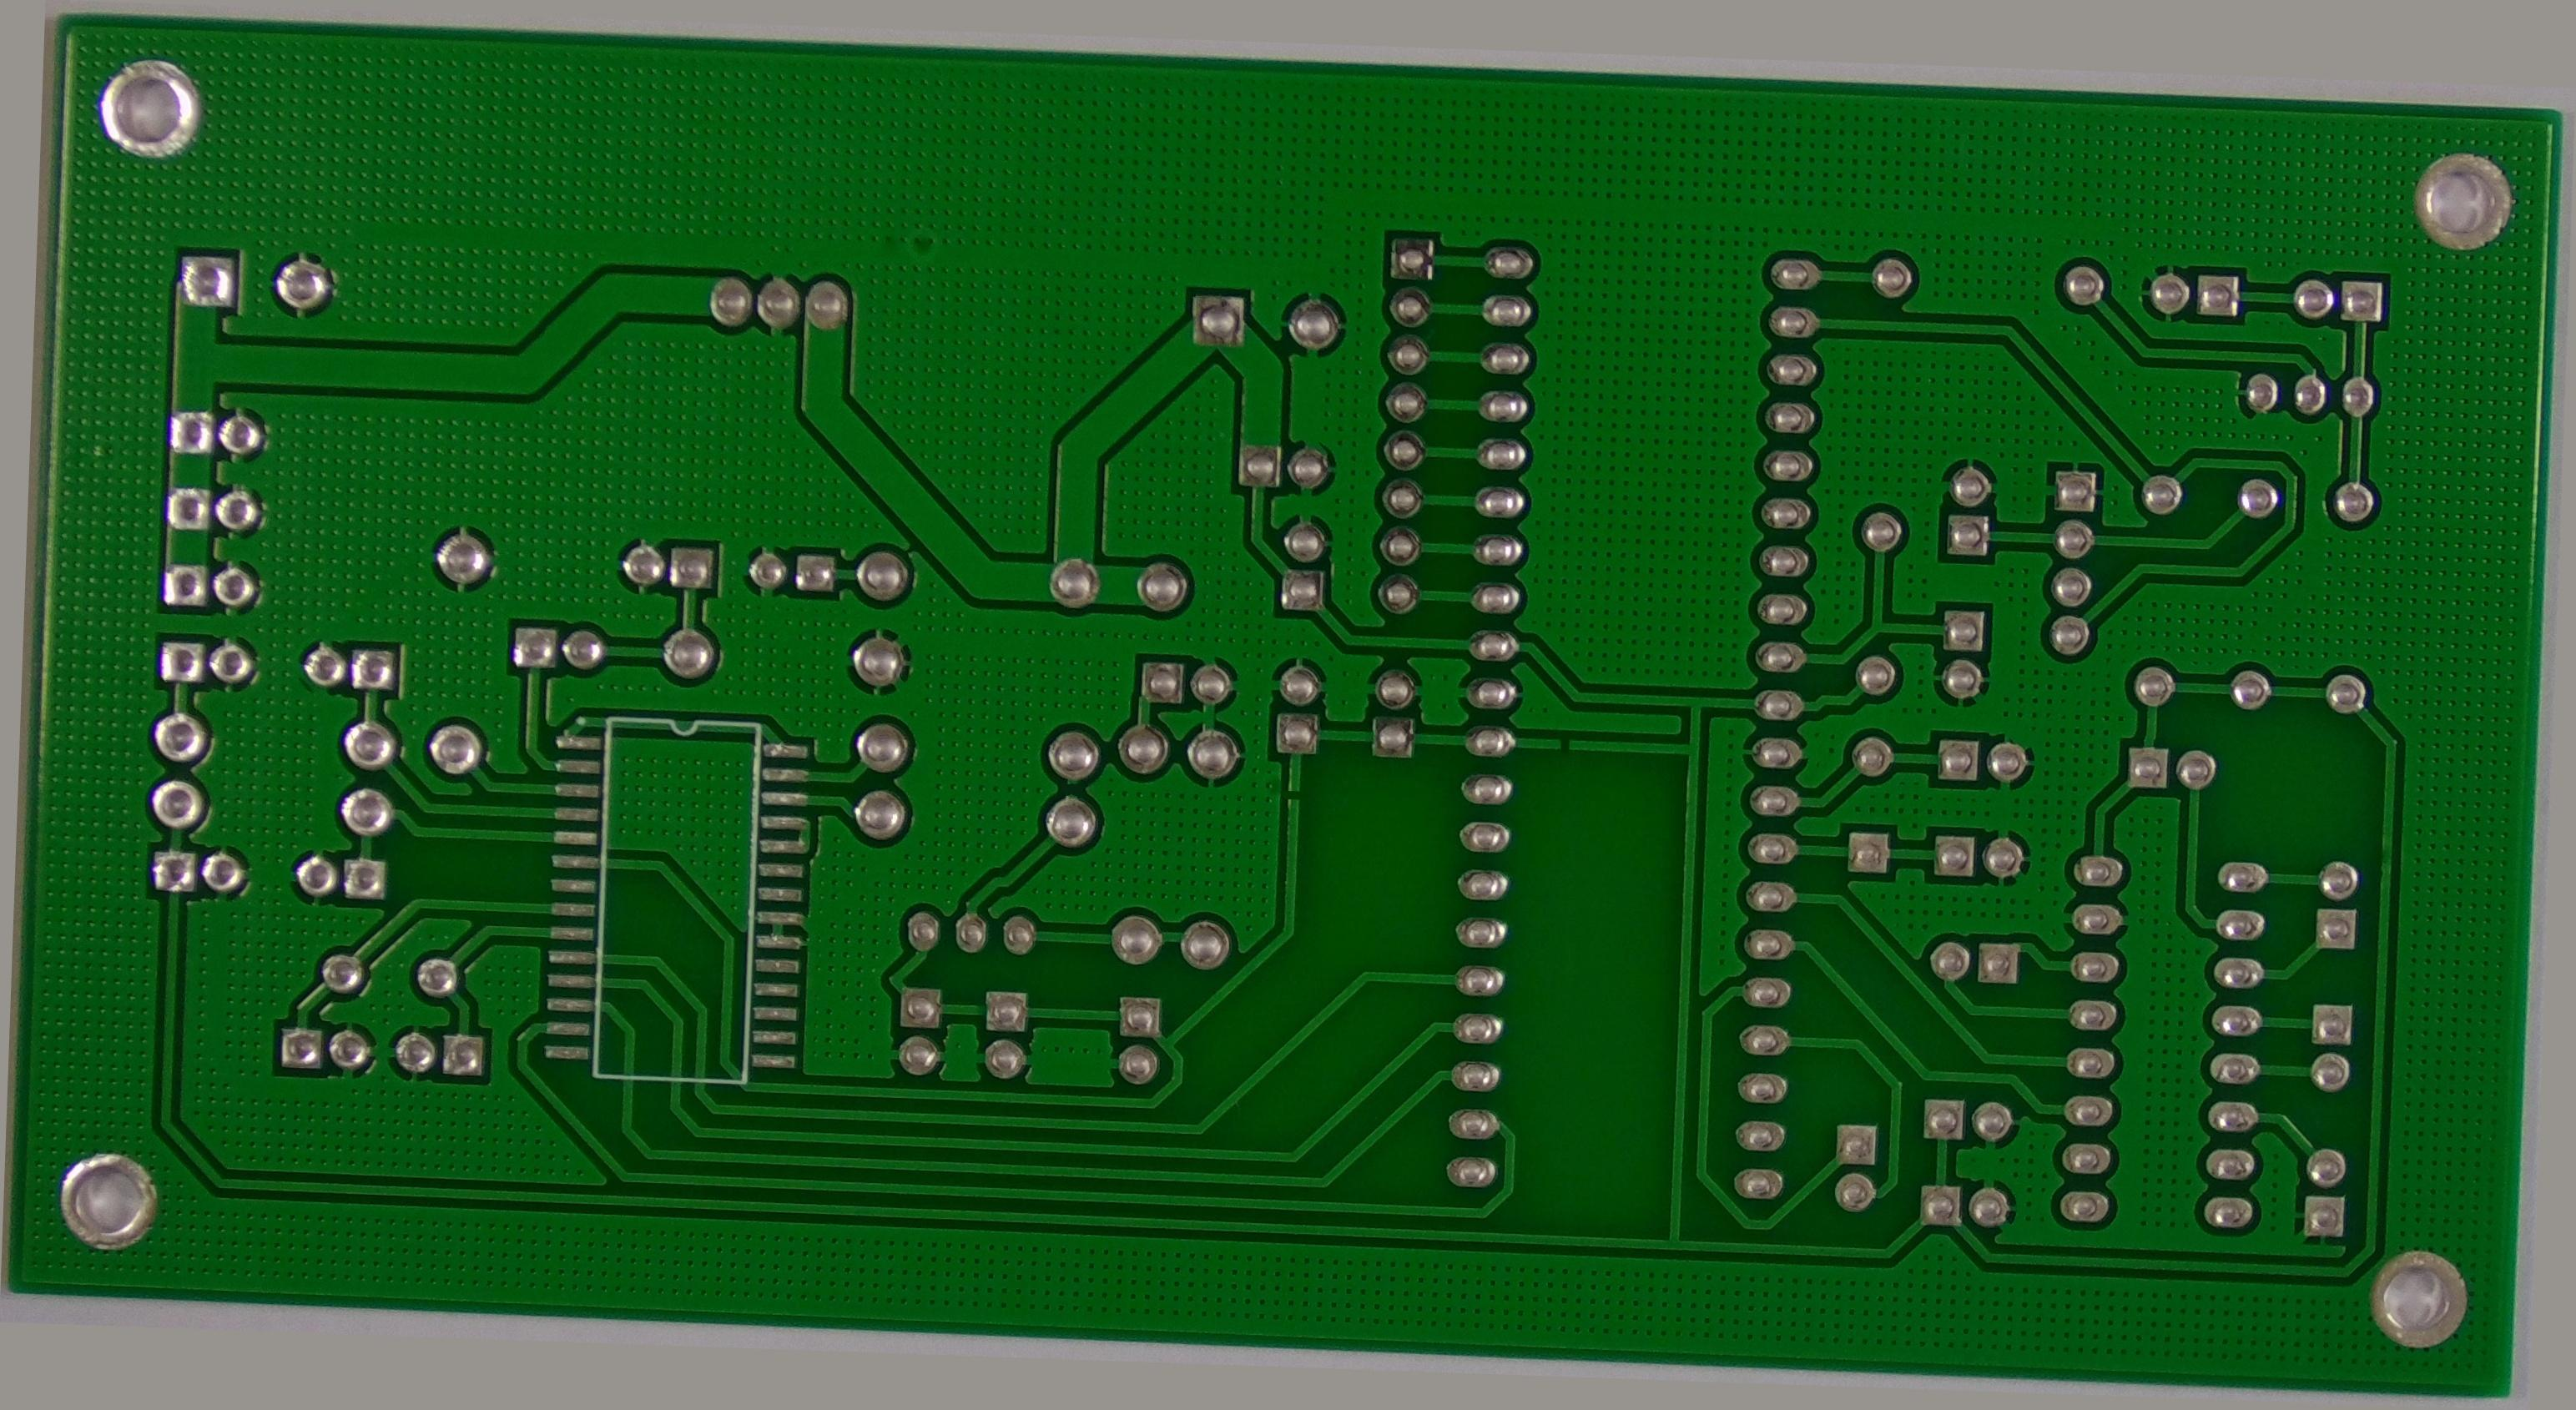open_circuit: (1285, 785, 1311, 814), (1557, 726, 1581, 748)
